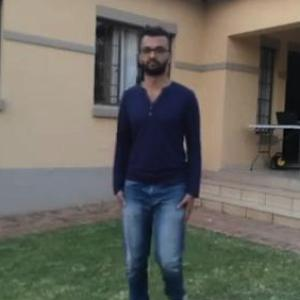follow: (111, 22, 205, 299)
